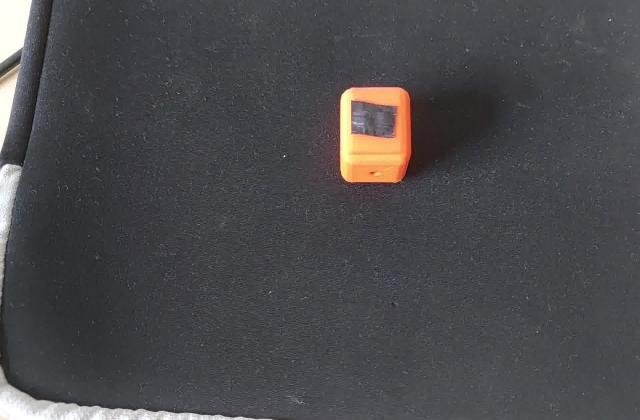black: (347, 97, 404, 144)
sticker: (334, 84, 416, 190)
